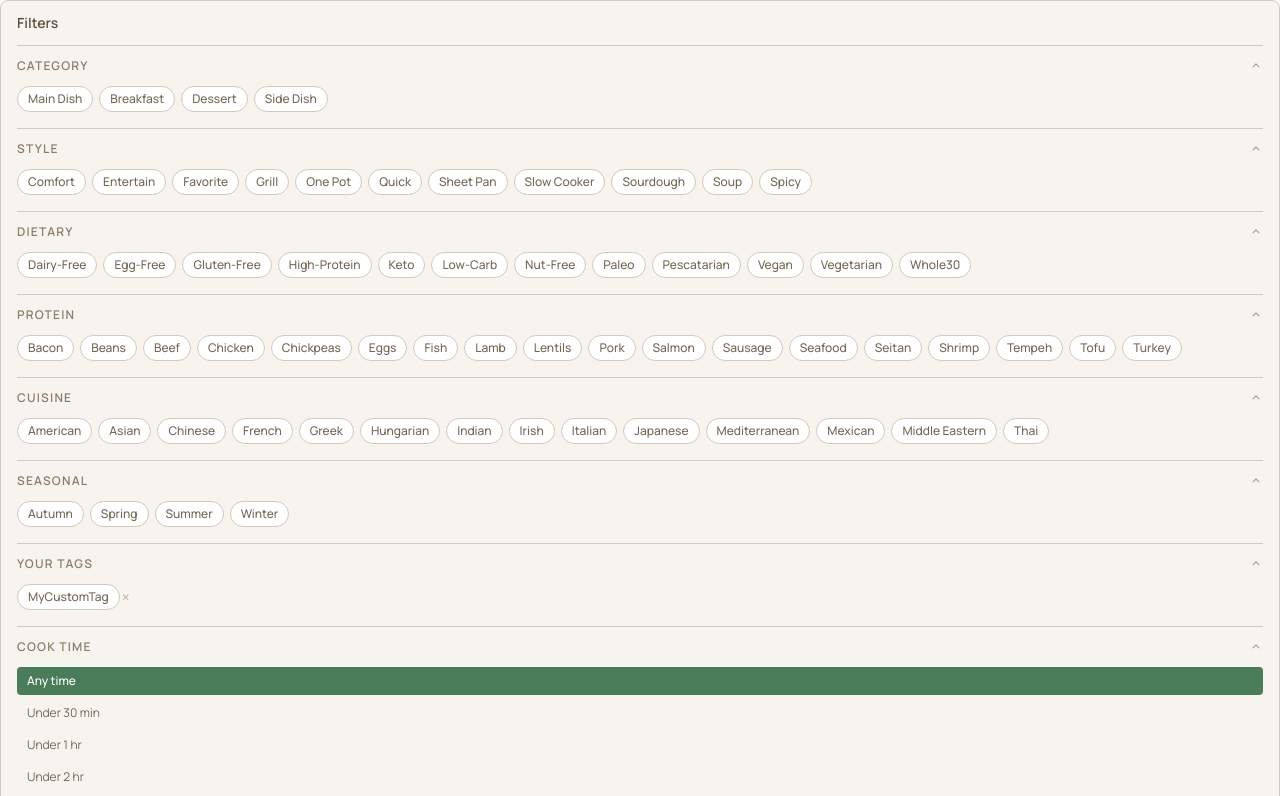
Test: FilterSidebar - "Your tags" delete flow › clicking × shows confirmation panel with Delete and Cancel
This screenshot has width=1280, height=796.
Click the button named "Delete tag MyCustomTag" at x=126, y=597, box [122,589,130,605]
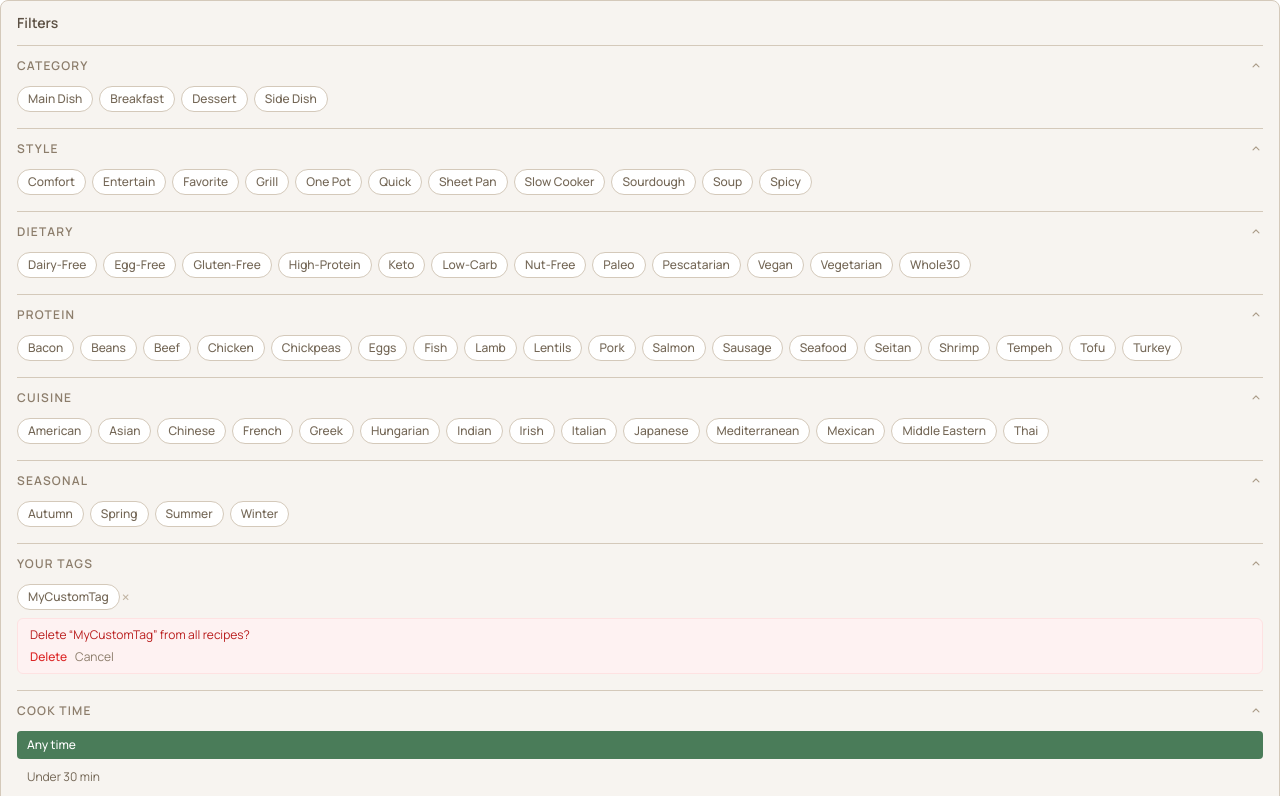
Now the text "Delete “MyCustomTag” from all recipes?" is shown, box [30,626,250,643]
Now the button "Delete" is shown, box [30,649,67,665]
Now the button "Cancel" is shown, box [75,649,114,665]
